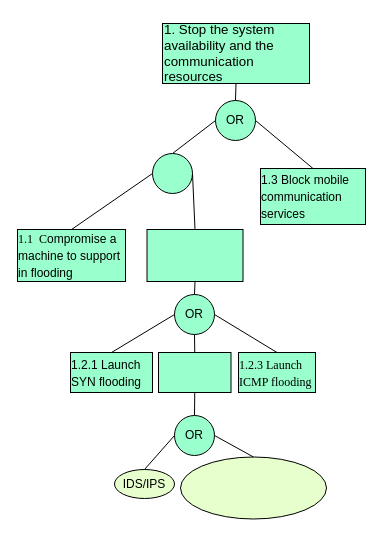
Image size: 383x536. Some labels were removed from this diagram. The shapes that lost their labels are listed below. From the top down, each one's centre as x and y in pixels, then its label:
At point 172,173: "AND".
At point 194,255: "1.2 Flood by a large number of requests".
At point 194,372: "1.2.2 Launch UDP flooding".
At point 253,487: "Using better authentication and authorization schemes".
